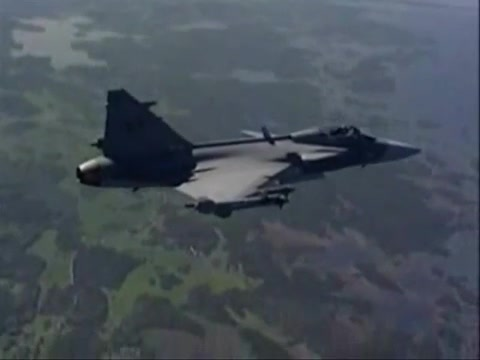aeroplane: (75, 88, 424, 219)
